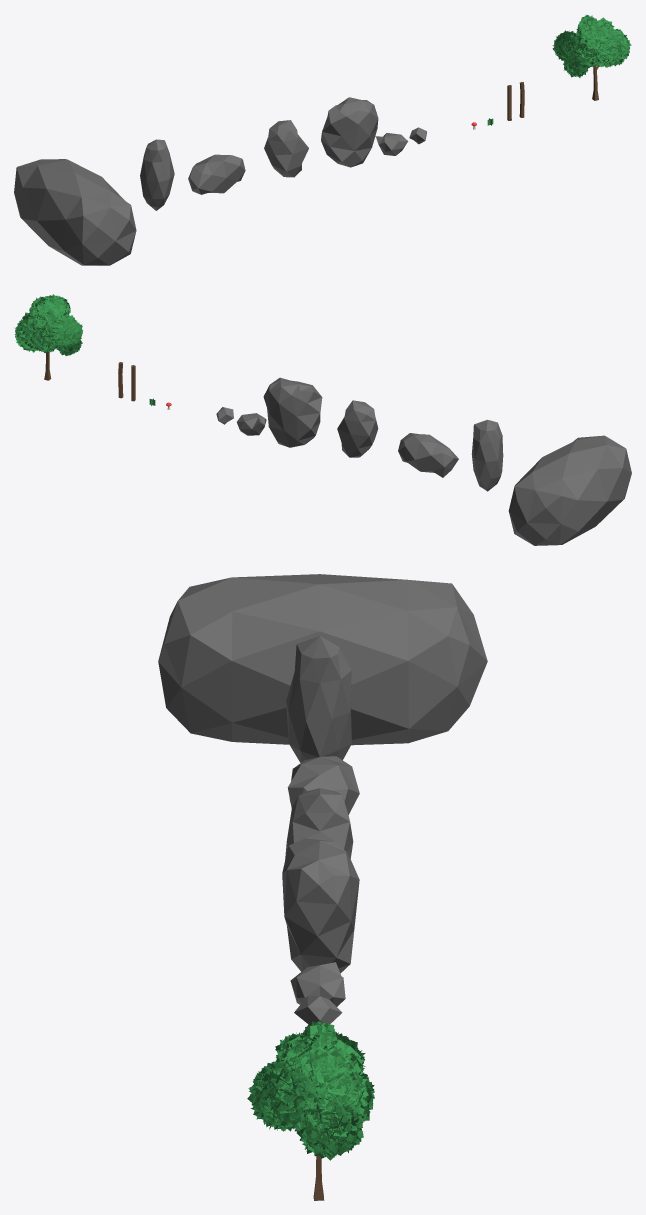
The model's file is tree.fbx.
The picture shows the model from 3 angles, top to bottom: view 1: azimuth 30°, elevation 25°; view 2: azimuth 150°, elevation 25°; view 3: azimuth 270°, elevation 25°; orthographic projection. The views are drawn at different scales.
Visible parts, largest first — view 1: RockMass, Leaves, BigRock1, BigRock4, BigRock2, BigRock3, Rock2; view 2: RockMass, BigRock1, Leaves, BigRock4, BigRock3, BigRock2, Rock2; view 3: RockMass, Leaves, BigRock1, BigRock4, BigRock2, BigRock3, Rock2, Rock1.
Boxes of the visible parts, <box> form: RockMass: <box>14,159,136,265</box>; Leaves: <box>552,15,631,77</box>; BigRock1: <box>321,97,378,167</box>; BigRock4: <box>140,139,174,210</box>; BigRock2: <box>264,120,308,177</box>; BigRock3: <box>188,154,245,194</box>; Rock2: <box>375,133,408,155</box>; RockMass: <box>508,435,631,545</box>; BigRock1: <box>263,377,322,447</box>; Leaves: <box>14,294,82,355</box>; BigRock4: <box>471,419,503,491</box>; BigRock3: <box>398,433,458,477</box>; BigRock2: <box>337,400,378,457</box>; Rock2: <box>237,413,266,435</box>; RockMass: <box>158,574,487,745</box>; Leaves: <box>247,1021,374,1160</box>; BigRock1: <box>282,832,359,973</box>; BigRock4: <box>286,636,351,762</box>; BigRock2: <box>285,788,353,858</box>; BigRock3: <box>287,756,359,814</box>; Rock2: <box>290,962,345,1006</box>; Rock1: <box>294,996,342,1025</box>.
Bounding box in the file's own units: 5352 × 934 × 1302.
